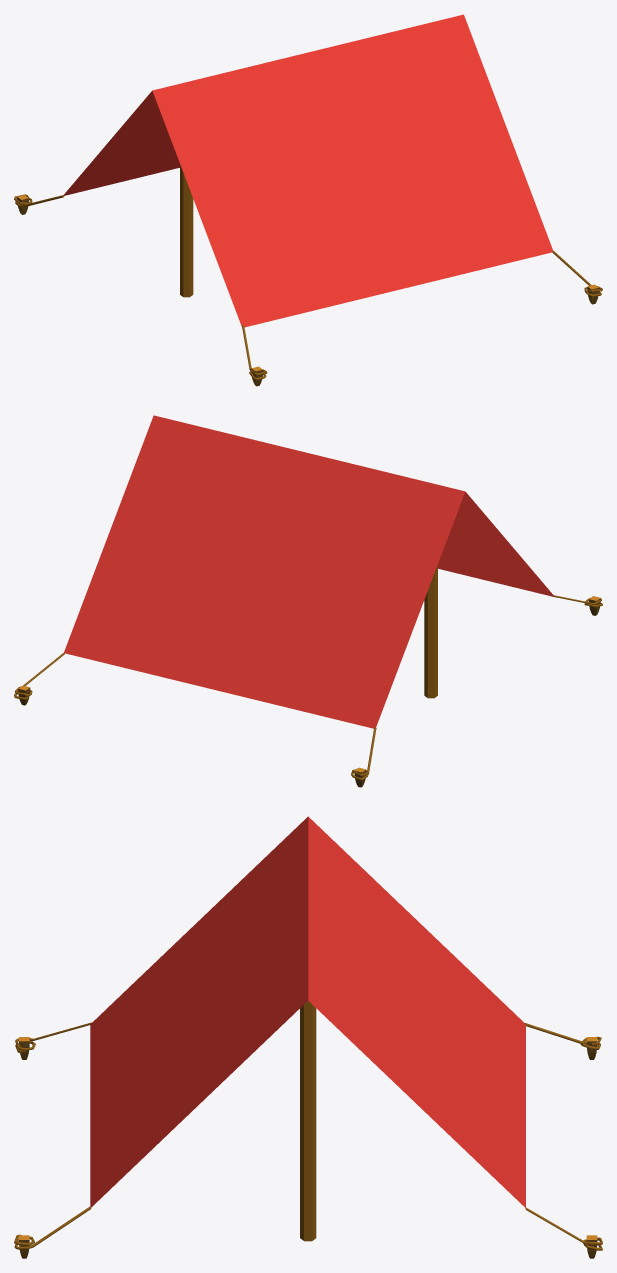
File: Tent.fbx
3 renders of one model, top to bottom at view 1: azimuth 30°, elevation 25°; view 2: azimuth 150°, elevation 25°; view 3: azimuth 270°, elevation 25°, orthographic. The views are drawn at different scales.
Visible parts, largest first — view 1: Tent; view 2: Tent; view 3: Tent.
Part boxes in pixels (x1,y1,x2,y2): Tent: (14,14,602,386); Tent: (14,415,602,787); Tent: (14,816,602,1258).
Size of the model in its own units: 225 by 130 by 270.
